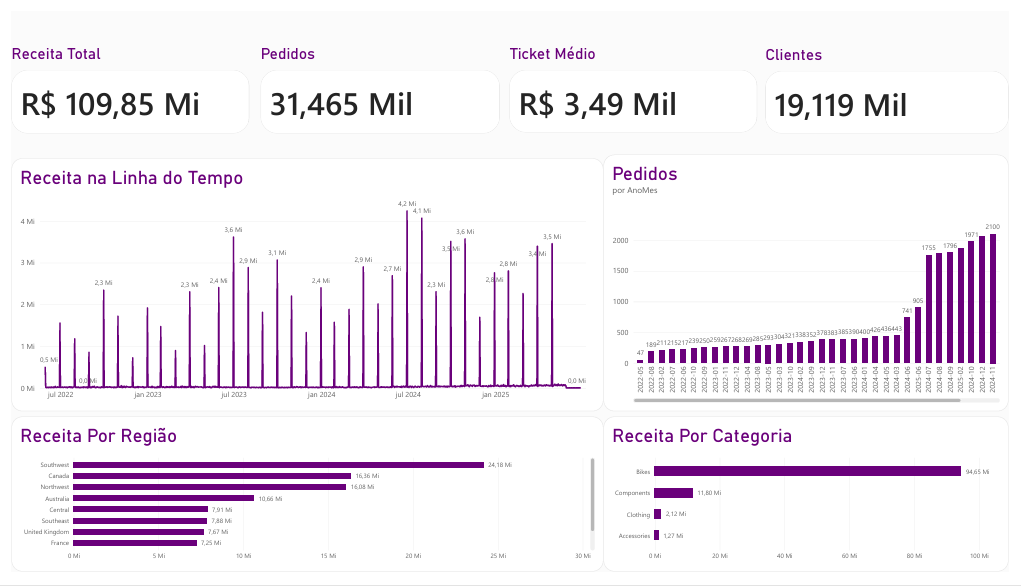

The page's visual inventory and layout, read from the dashboard file:
{"tool":"powerbi","page":{"name":"Visão Geral","canvas":[1920,1080],"ordinal":0},"visuals":[{"type":"cardVisual","title":"Receita Total","fields":{"Data":["Sales SalesOrderDetail.Receita"]},"box":[0,62.6,457.9,172.8],"z":0},{"type":"cardVisual","title":"Pedidos","fields":{"Data":["Sales SalesOrderHeader.Pedidos"]},"box":[479.5,62.6,460.1,172.8],"z":1000},{"type":"cardVisual","title":"Clientes","fields":{"Data":["Sales SalesOrderHeader.Clientes"]},"box":[1451.5,64.8,468.7,170.6],"z":2000},{"type":"cardVisual","title":"Ticket Médio","fields":{"Data":["Sales SalesOrderHeader.TicketMédio"]},"box":[959,62.6,477.4,170.6],"z":3000},{"type":"lineChart","title":"Receita na Linha do Tempo","fields":{"Y":["Sales SalesOrderDetail.Receita"],"Category":["Sales SalesOrderHeader.OrderDate"]},"box":[0,283,1140.5,488.2],"z":4000},{"type":"columnChart","fields":{"Y":["Sales SalesOrderHeader.Pedidos"],"Category":["Calendario.AnoMes"]},"box":[1140.5,276.5,779.8,494.6],"z":5000},{"type":"barChart","title":"Receita Por Região","fields":{"Category":["Sales SalesTerritory.Name"],"Y":["Sales SalesOrderDetail.Receita"]},"box":[0,781,1140,299],"z":6000},{"type":"barChart","title":"Receita Por Categoria","fields":{"Category":["Production ProductCategory.Name"],"Y":["Sales SalesOrderDetail.Receita"]},"box":[1140,781,780,299],"z":7000}]}

Visuals, with their boxes in screenshot pixels (x1, y1, x2, y2), scaled from the page's 1920x1080 canvas onto the 1021x586 screenshot:
"Receita Total" cardVisual: pyautogui.locateOnScreen(0, 34, 243, 128)
"Pedidos" cardVisual: pyautogui.locateOnScreen(255, 34, 500, 128)
"Clientes" cardVisual: pyautogui.locateOnScreen(772, 35, 1020, 128)
"Ticket Médio" cardVisual: pyautogui.locateOnScreen(510, 34, 764, 127)
"Receita na Linha do Tempo" lineChart: pyautogui.locateOnScreen(0, 154, 606, 418)
columnChart - Sales SalesOrderHeader.Pedidos x Calendario.AnoMes: pyautogui.locateOnScreen(606, 150, 1020, 418)
"Receita Por Região" barChart: pyautogui.locateOnScreen(0, 424, 606, 585)
"Receita Por Categoria" barChart: pyautogui.locateOnScreen(606, 424, 1020, 585)
